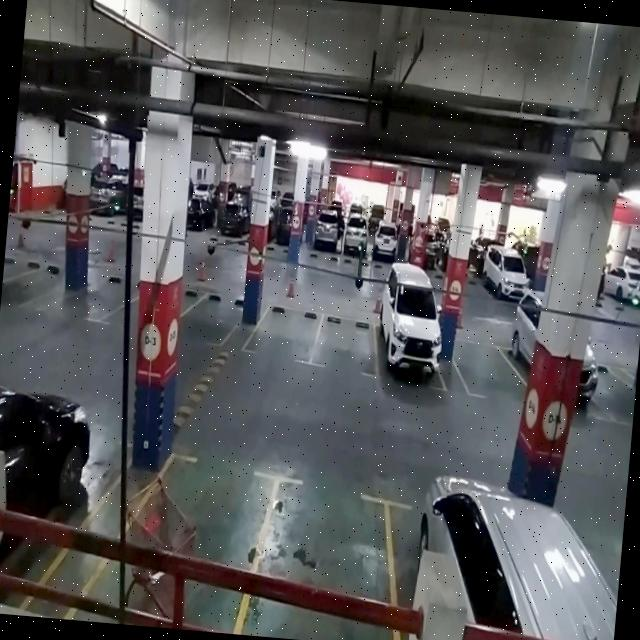empty: (250, 462, 400, 640), (450, 334, 526, 405), (311, 308, 380, 378), (244, 303, 318, 365), (173, 294, 234, 352)
occupied: (380, 457, 573, 640), (368, 280, 450, 394)
